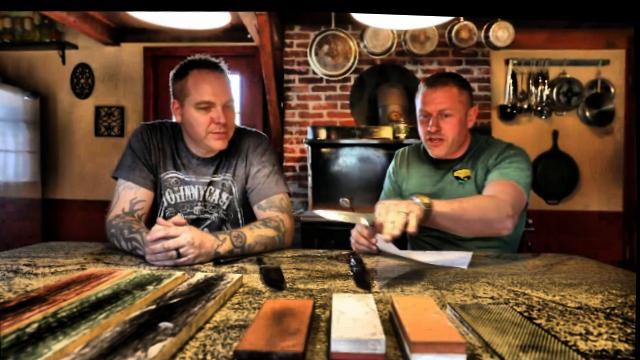knife: (307, 187, 418, 244)
